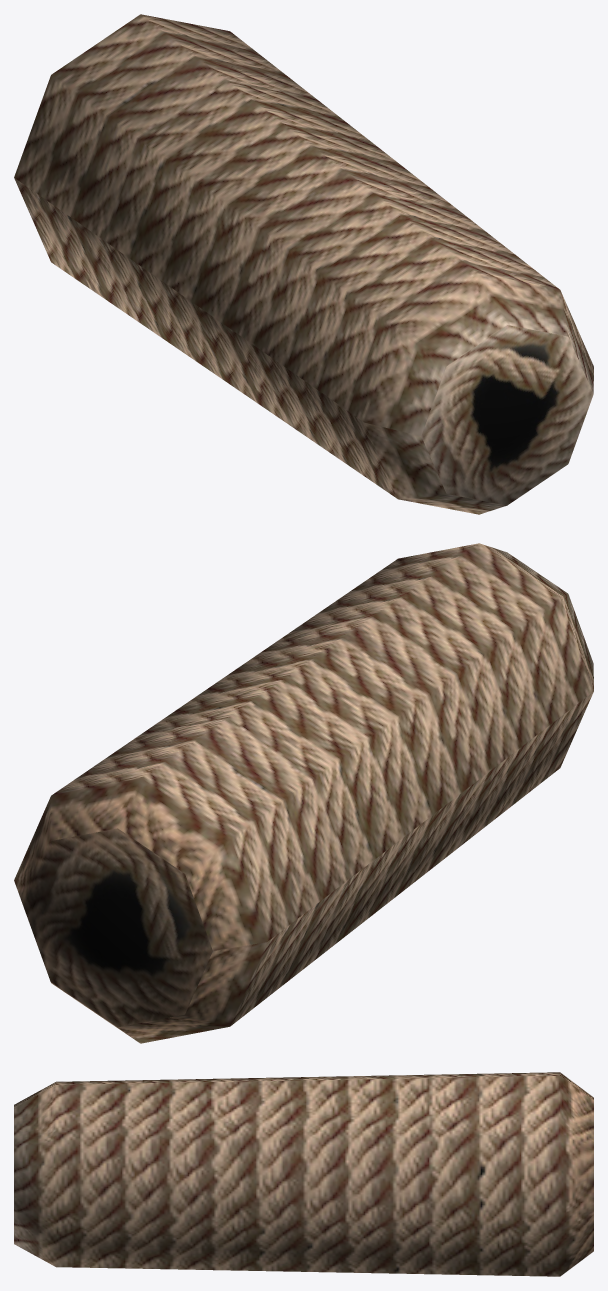
File: Rope Coil.fbx
3 views of the same model, one above another, from view 1: azimuth 30°, elevation 25°; view 2: azimuth 150°, elevation 25°; view 3: azimuth 270°, elevation 25° (orthographic). The views are drawn at different scales.
Parts seen in each view (by area): view 1: coiled rope001; view 2: coiled rope001; view 3: coiled rope001.
Part boxes in pixels (x1,y1,x2,y2): coiled rope001: (14,14,593,514); coiled rope001: (14,543,593,1043); coiled rope001: (14,1072,593,1276).
Size of the model in its own units: 14.91 by 39.74 by 14.91.
1 material, 1 textured.
